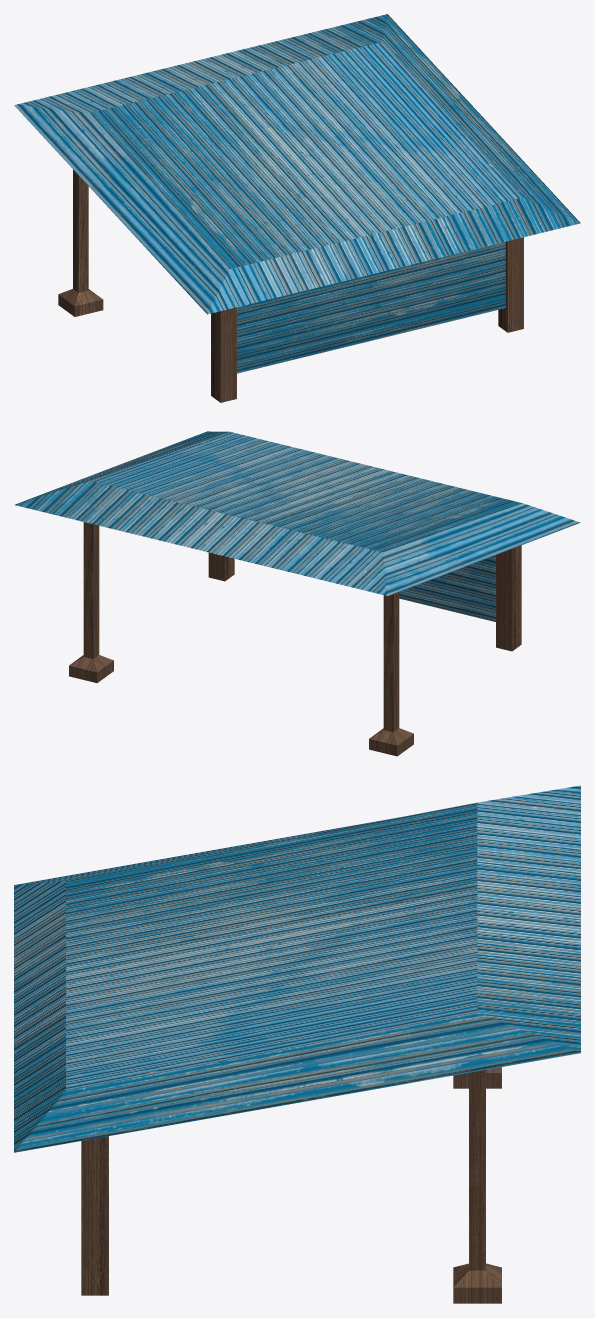
Rendered from rak shad - Copy.fbx.
The picture shows the model from 3 angles, top to bottom: view 1: azimuth 30°, elevation 25°; view 2: azimuth 150°, elevation 25°; view 3: azimuth 270°, elevation 25°; orthographic projection. The views are drawn at different scales.
Visible parts, largest first — view 1: pCube6; view 2: pCube6; view 3: pCube6.
Part boxes in pixels (box(x1,y1,x2,y2)): pCube6: box(14, 14, 580, 402); pCube6: box(14, 431, 580, 756); pCube6: box(14, 785, 580, 1303).
Size of the model in its own units: 738 by 362 by 660.
Materials: 2 (2 with a texture image).
